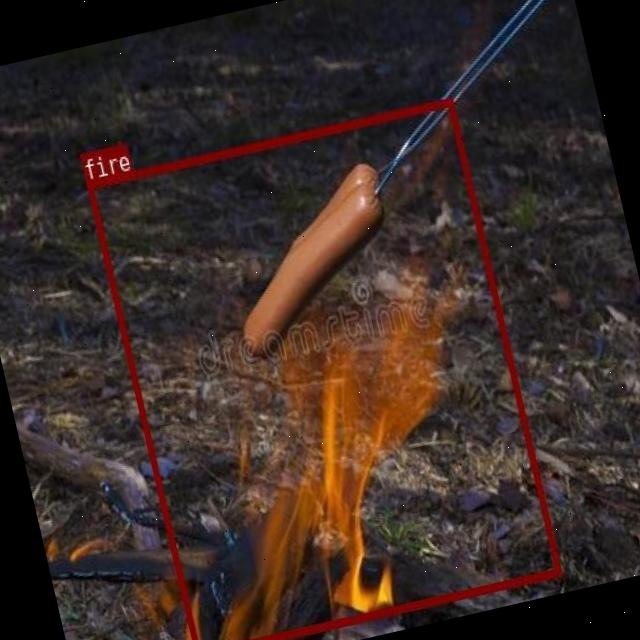fire: (84, 97, 560, 640)
